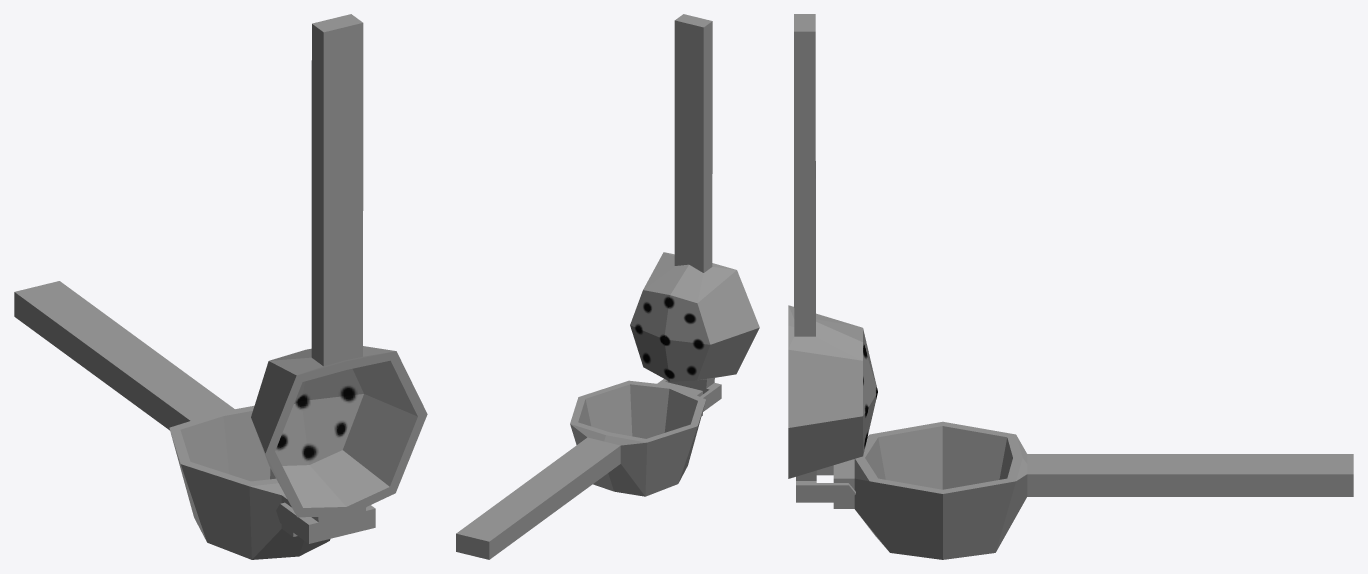
The model's file is Prop masak_Lemon Squeezer 2.fbx.
3 renders of one model, left to right at view 1: azimuth 30°, elevation 25°; view 2: azimuth 150°, elevation 25°; view 3: azimuth 270°, elevation 25°, orthographic. The views are drawn at different scales.
Parts seen in each view (by area): view 1: Lemon Squeezer Top, Lemon Squeezer Bot; view 2: Lemon Squeezer Top, Lemon Squeezer Bot; view 3: Lemon Squeezer Bot, Lemon Squeezer Top.
Boxes of the visible parts, x1=… form: Lemon Squeezer Top: x1=251, y1=14, x2=427, y2=543; Lemon Squeezer Bot: x1=14, y1=281, x2=330, y2=559; Lemon Squeezer Top: x1=630, y1=14, x2=759, y2=411; Lemon Squeezer Bot: x1=456, y1=380, x2=705, y2=559; Lemon Squeezer Bot: x1=833, y1=421, x2=1353, y2=559; Lemon Squeezer Top: x1=788, y1=14, x2=877, y2=502.
Size of the model in its own units: 11.93 by 39.42 by 39.4.
